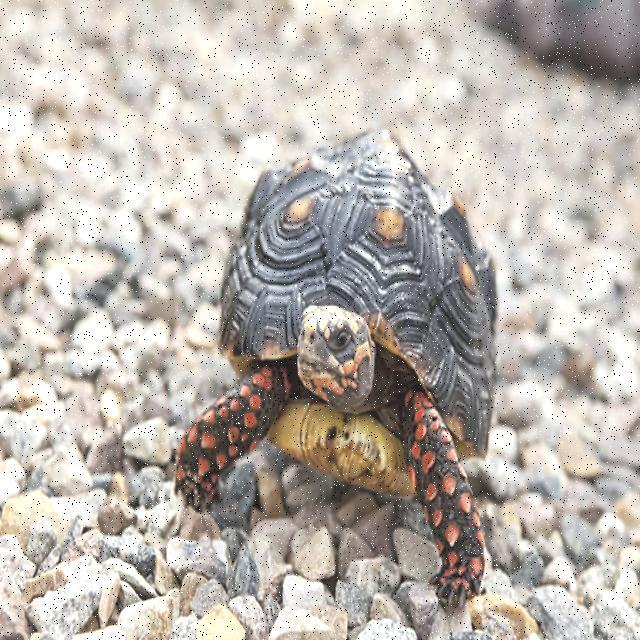tortoise: (167, 132, 485, 608)
